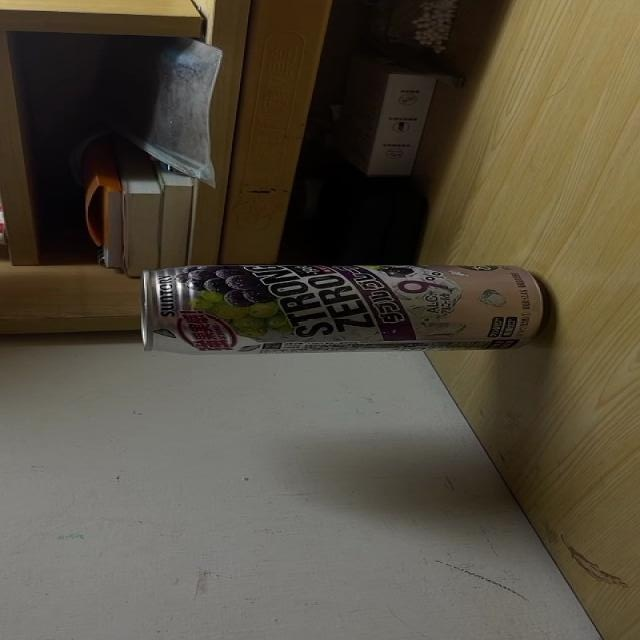Liquor: (137, 262, 547, 358)
